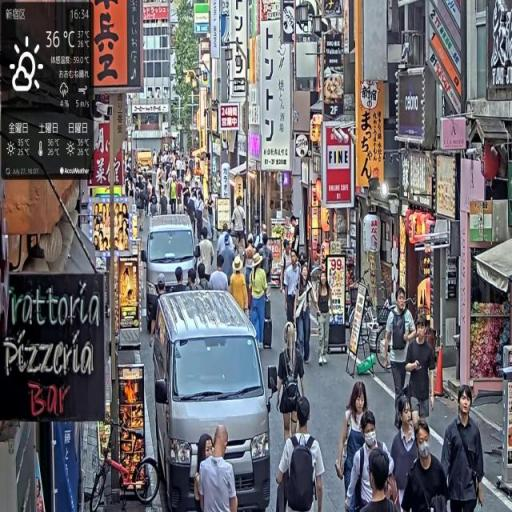person: (274, 394, 327, 512), (441, 384, 487, 512), (385, 288, 418, 435), (348, 415, 395, 512), (337, 380, 371, 512), (404, 419, 451, 512), (403, 316, 437, 432), (276, 321, 307, 446), (198, 424, 239, 512), (391, 397, 421, 512), (294, 262, 316, 368), (250, 253, 271, 352), (315, 270, 334, 366), (229, 254, 250, 318), (210, 256, 231, 294)
